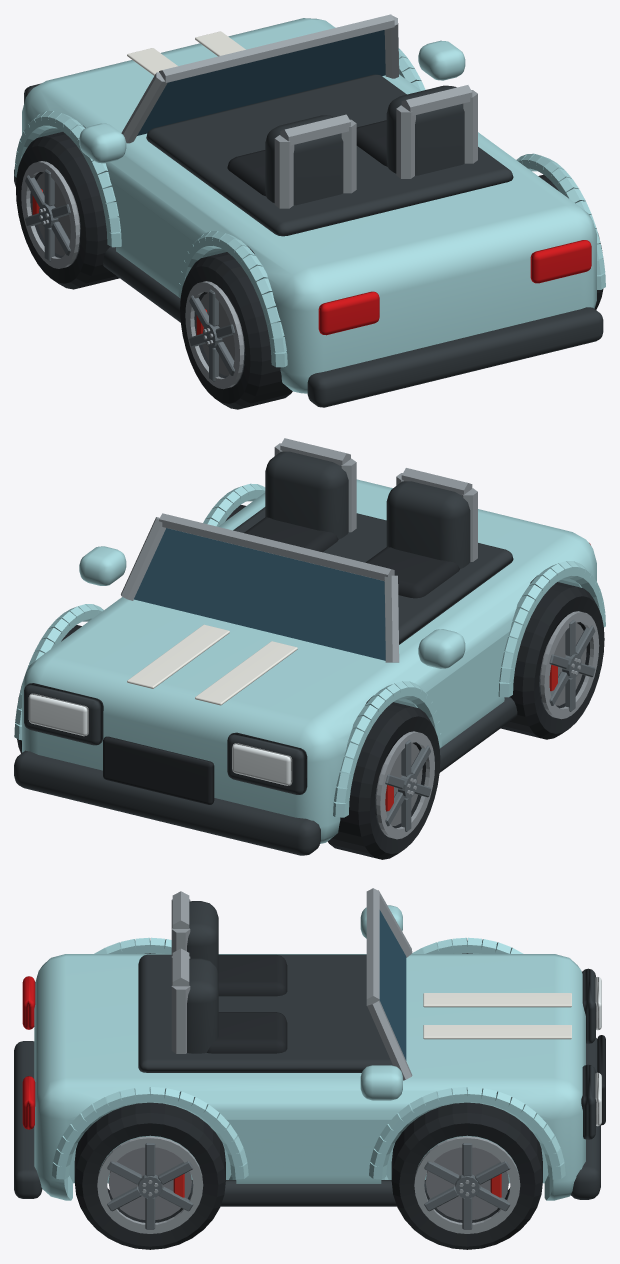
The model's file is car_roadster.glb.
The picture shows the model from 3 angles, top to bottom: view 1: azimuth 30°, elevation 25°; view 2: azimuth 150°, elevation 25°; view 3: azimuth 270°, elevation 25°; orthographic projection. The views are drawn at different scales.
Parts seen in each view (by area): view 1: Body.005, WheelMesh.022, WheelMesh.020; view 2: Body.005, WheelMesh.020, WheelMesh.022; view 3: Body.005, WheelMesh.023, WheelMesh.021.
Boxes of the visible parts, box(x1,y1,x2,y2) form: Body.005: box(14, 14, 605, 407); WheelMesh.022: box(180, 246, 292, 409); WheelMesh.020: box(16, 126, 119, 289); Body.005: box(14, 438, 605, 855); WheelMesh.020: box(327, 697, 440, 859); WheelMesh.022: box(500, 577, 604, 739); Body.005: box(14, 888, 605, 1206); WheelMesh.023: box(74, 1102, 225, 1249); WheelMesh.021: box(391, 1102, 542, 1249).
Size of the model in its own units: 2.64 by 1.65 by 3.76.
